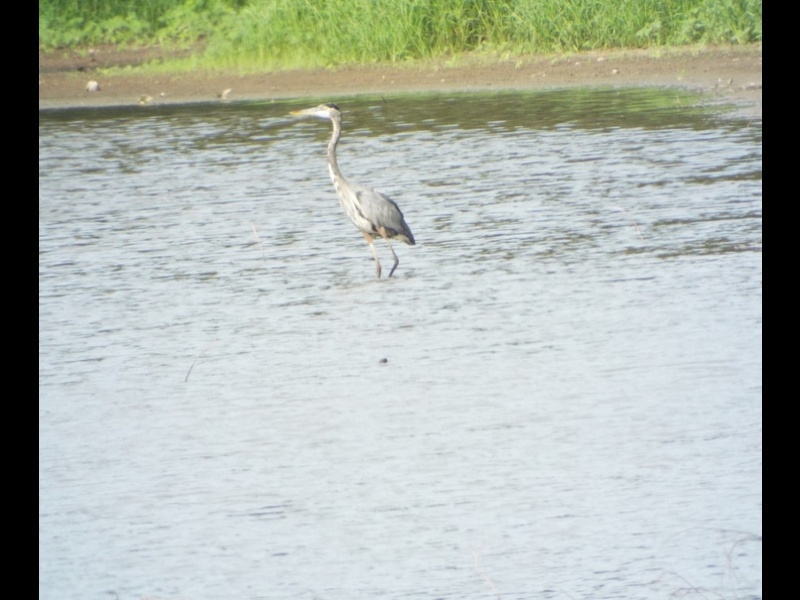heron: (286, 99, 418, 279)
